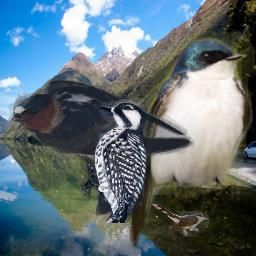Cuckoo: (151, 200, 209, 237)
Swallow: (129, 30, 255, 249), (8, 77, 194, 216)
Woodpecker: (81, 98, 151, 223)
